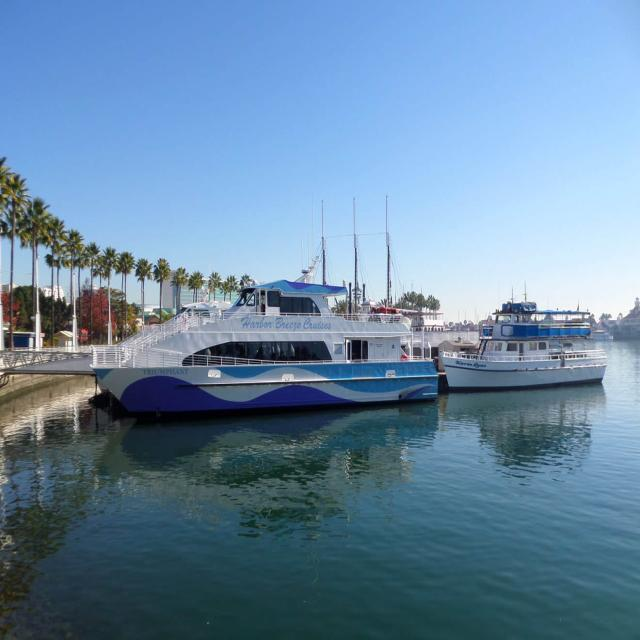houseboat: (82, 270, 442, 412), (442, 296, 606, 384)
